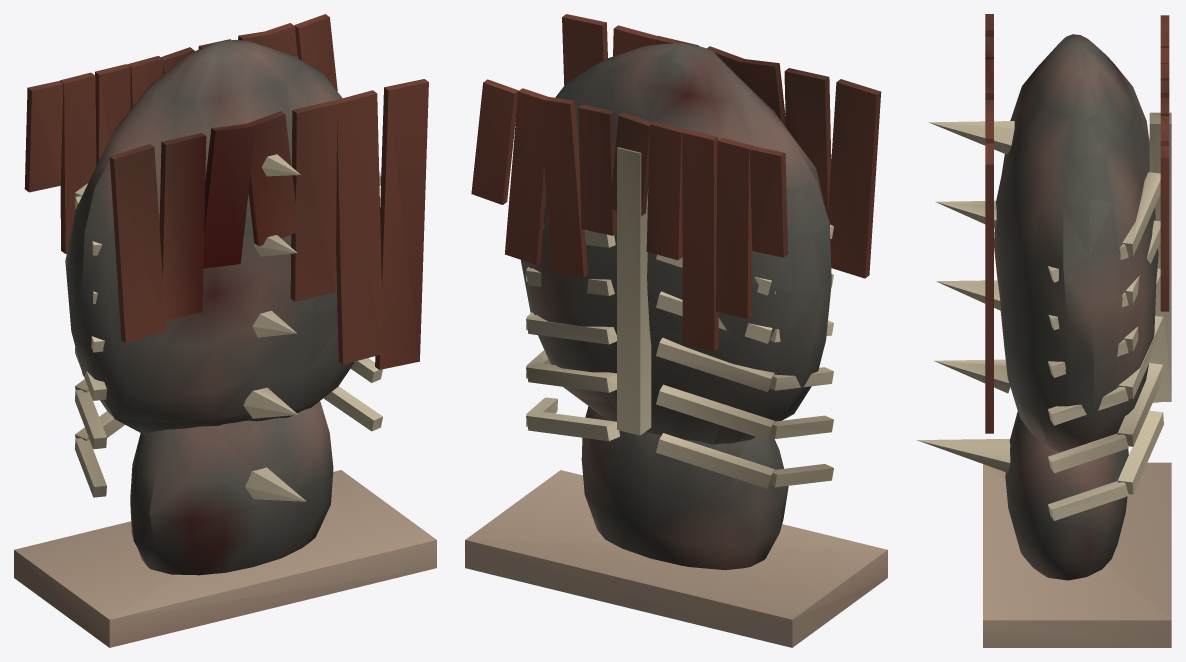
File: ScavengerMonsterTorso.glb
The picture shows the model from 3 angles, left to right: view 1: azimuth 30°, elevation 25°; view 2: azimuth 150°, elevation 25°; view 3: azimuth 270°, elevation 25°; orthographic projection.
Parts seen in each view (by area): view 1: ScavengerMonsterTorso_monster_skin, ScavengerMonsterTorso_shirtScavenger, ScavengerMonsterTorso_leather, ScavengerMonsterTorso_bone; view 2: ScavengerMonsterTorso_monster_skin, ScavengerMonsterTorso_shirtScavenger, ScavengerMonsterTorso_leather, ScavengerMonsterTorso_bone; view 3: ScavengerMonsterTorso_monster_skin, ScavengerMonsterTorso_leather, ScavengerMonsterTorso_bone, ScavengerMonsterTorso_shirtScavenger.
Boxes of the visible parts, x1=… form: ScavengerMonsterTorso_monster_skin: x1=65, y1=39, x2=380, y2=575; ScavengerMonsterTorso_shirtScavenger: x1=24, y1=14, x2=428, y2=369; ScavengerMonsterTorso_leather: x1=14, y1=470, x2=436, y2=647; ScavengerMonsterTorso_bone: x1=75, y1=154, x2=382, y2=501; ScavengerMonsterTorso_monster_skin: x1=521, y1=43, x2=831, y2=570; ScavengerMonsterTorso_shirtScavenger: x1=471, y1=14, x2=881, y2=351; ScavengerMonsterTorso_leather: x1=465, y1=470, x2=887, y2=647; ScavengerMonsterTorso_bone: x1=526, y1=147, x2=833, y2=488; ScavengerMonsterTorso_monster_skin: x1=994, y1=34, x2=1158, y2=580; ScavengerMonsterTorso_leather: x1=983, y1=462, x2=1171, y2=647; ScavengerMonsterTorso_bone: x1=917, y1=112, x2=1171, y2=520; ScavengerMonsterTorso_shirtScavenger: x1=985, y1=14, x2=1169, y2=433.
Bounding box in the file's own units: 1.7 × 2.71 × 1.16.
